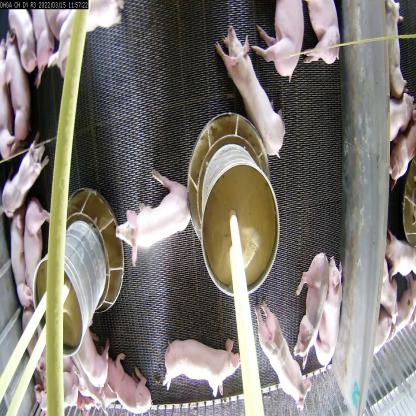Pig: (215, 22, 284, 158), (113, 168, 195, 266), (252, 300, 309, 413), (155, 329, 240, 396), (255, 0, 309, 90), (294, 247, 328, 368), (1, 139, 54, 216), (314, 257, 349, 372), (104, 349, 155, 415), (64, 326, 112, 392), (20, 200, 50, 303), (7, 207, 33, 310)
